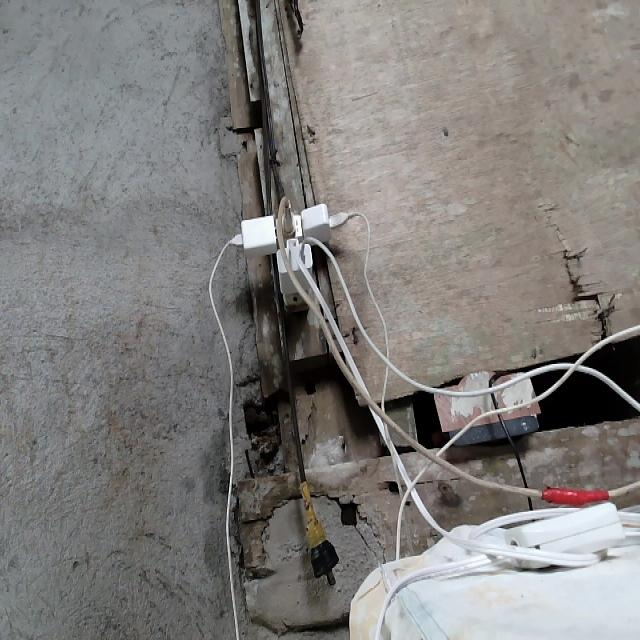-: (230, 200, 352, 304)
